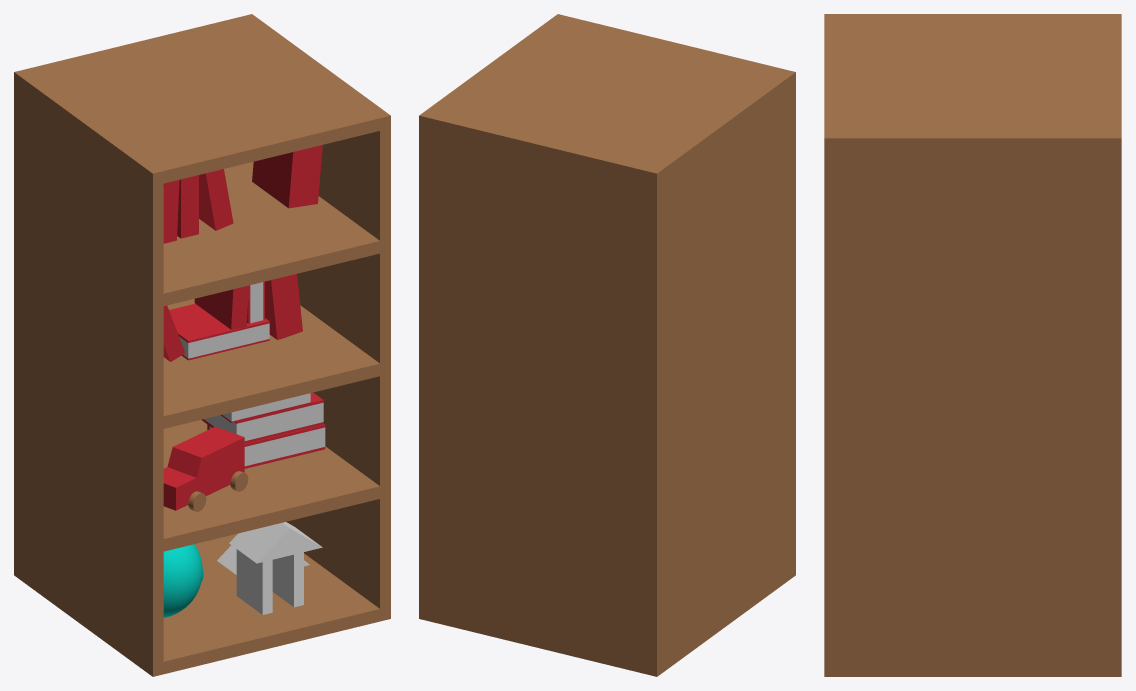
File: bookcaseumbro.fbx
The picture shows the model from 3 angles, left to right: view 1: azimuth 30°, elevation 25°; view 2: azimuth 150°, elevation 25°; view 3: azimuth 270°, elevation 25°; orthographic projection. The views are drawn at different scales.
Parts seen in each view (by area): view 1: Cube.001, Cube.016, Cube.006, Cube.009, Cube.014, Sphere, Cube.019, Cube.005, Cube.010, Cube.017, Cube.004, Cube.012 (+6 smaller); view 2: Cube.001; view 3: Cube.001.
Boxes of the visible parts, x1=… form: Cube.001: x1=14, y1=14, x2=390, y2=676; Cube.016: x1=163, y1=426, x2=248, y2=511; Cube.006: x1=252, y1=145, x2=322, y2=208; Cube.009: x1=169, y1=303, x2=269, y2=360; Cube.014: x1=201, y1=392, x2=323, y2=443; Sphere: x1=163, y1=544, x2=202, y2=617; Cube.019: x1=229, y1=522, x2=322, y2=563; Cube.005: x1=207, y1=424, x2=325, y2=468; Cube.010: x1=265, y1=274, x2=302, y2=339; Cube.017: x1=236, y1=549, x2=272, y2=614; Cube.004: x1=199, y1=169, x2=233, y2=230; Cube.012: x1=194, y1=285, x2=248, y2=329; Cube.001: x1=419, y1=14, x2=795, y2=676; Cube.001: x1=824, y1=14, x2=1121, y2=676.
Size of the model in its own units: 198 by 400 by 200.
